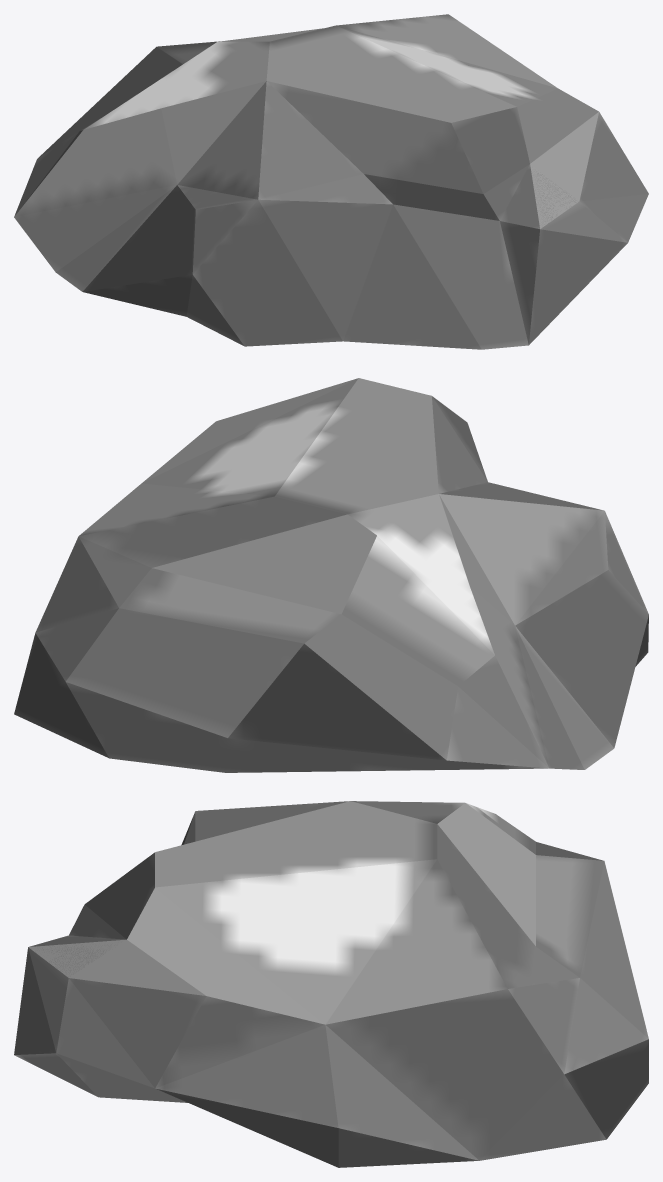
The picture shows the model from 3 angles, top to bottom: view 1: azimuth 30°, elevation 25°; view 2: azimuth 150°, elevation 25°; view 3: azimuth 270°, elevation 25°; orthographic projection. The views are drawn at different scales.
Visible parts, largest first — view 1: DaTo; view 2: DaTo; view 3: DaTo.
Part boxes in pixels (<box>): DaTo: <box>14,14,648,349</box>; DaTo: <box>14,378,648,772</box>; DaTo: <box>14,801,648,1167</box>.
Bounding box in the file's own units: 103 × 35.1 × 103.
2 materials, 2 textured.
